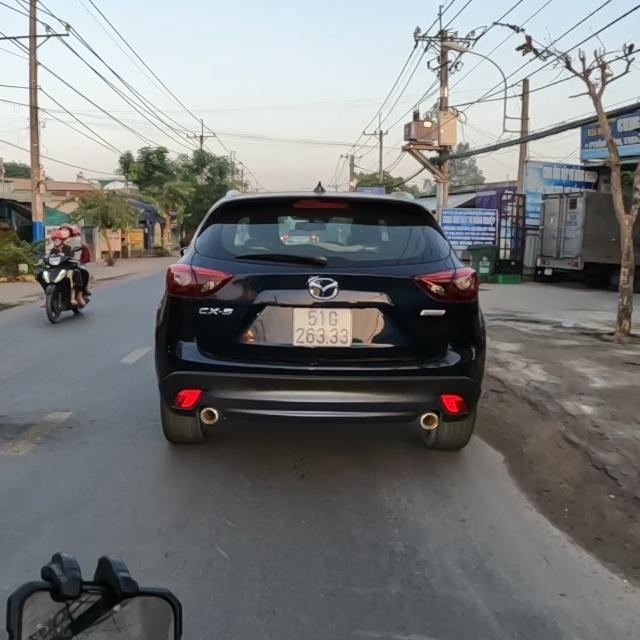license-plate: (290, 305, 355, 350)
